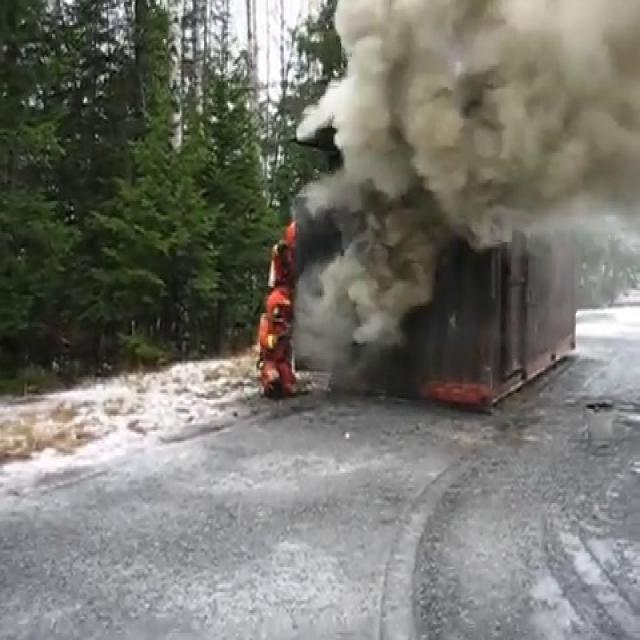Smoke: (297, 0, 640, 398)
